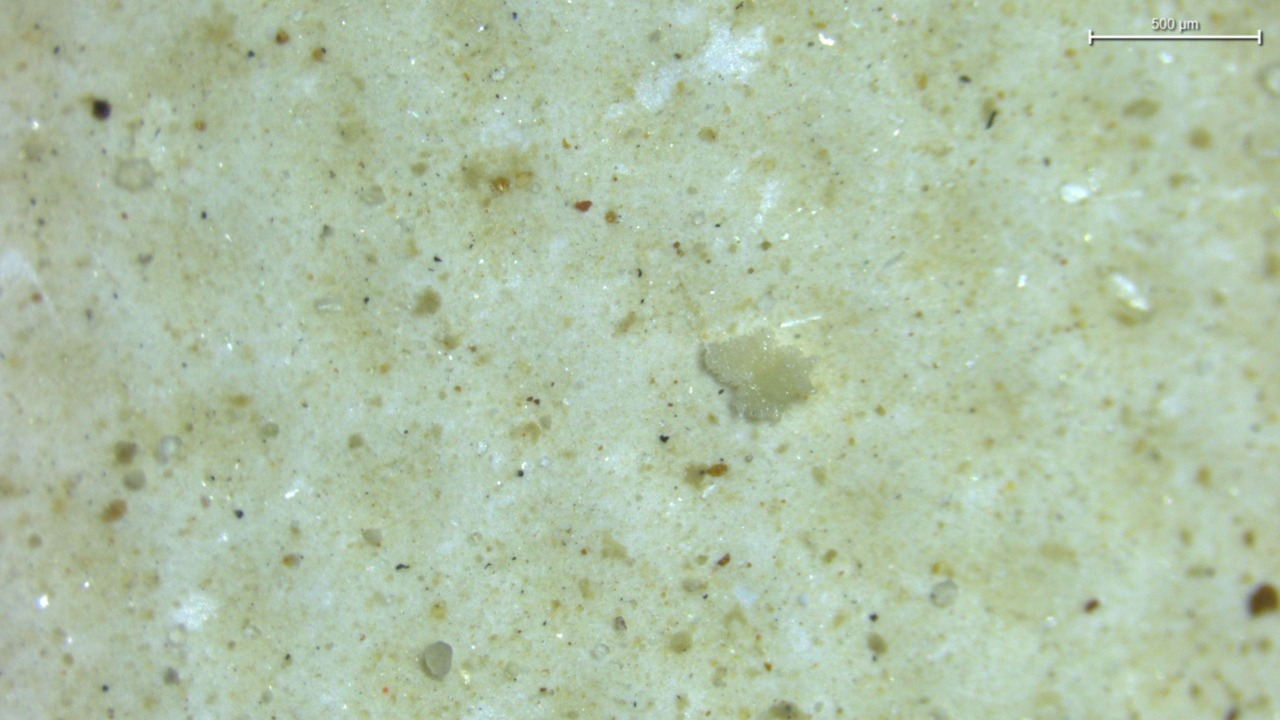microplastic_fragment: (702, 333, 813, 421), (420, 641, 453, 679)
